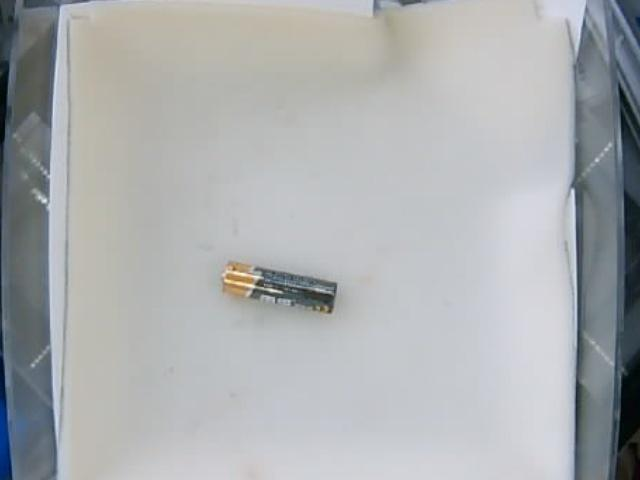Battery: (219, 262, 338, 317)
